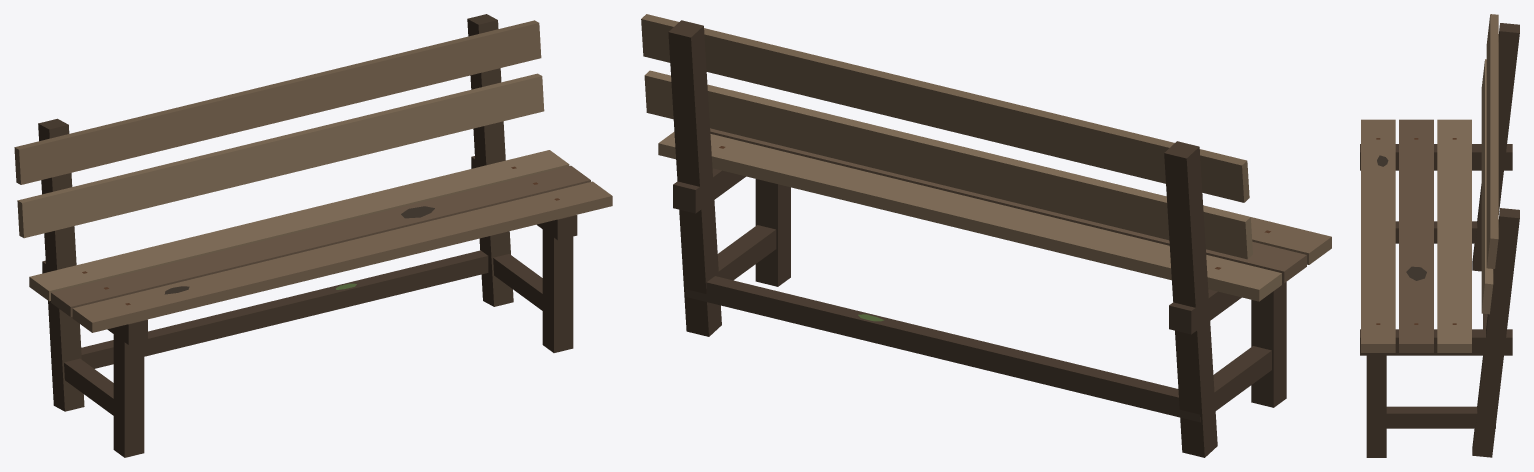
File: bench.glb
The picture shows the model from 3 angles, left to right: view 1: azimuth 30°, elevation 25°; view 2: azimuth 150°, elevation 25°; view 3: azimuth 270°, elevation 25°; orthographic projection. The views are drawn at different scales.
Visible parts, largest first — view 1: bench; view 2: bench; view 3: bench.
Part boxes in pixels (<box>): bench: <box>14,14,612,457</box>; bench: <box>641,14,1331,457</box>; bench: <box>1360,14,1519,457</box>.
Size of the model in its own units: 1.6 by 0.8029 by 0.4816.
